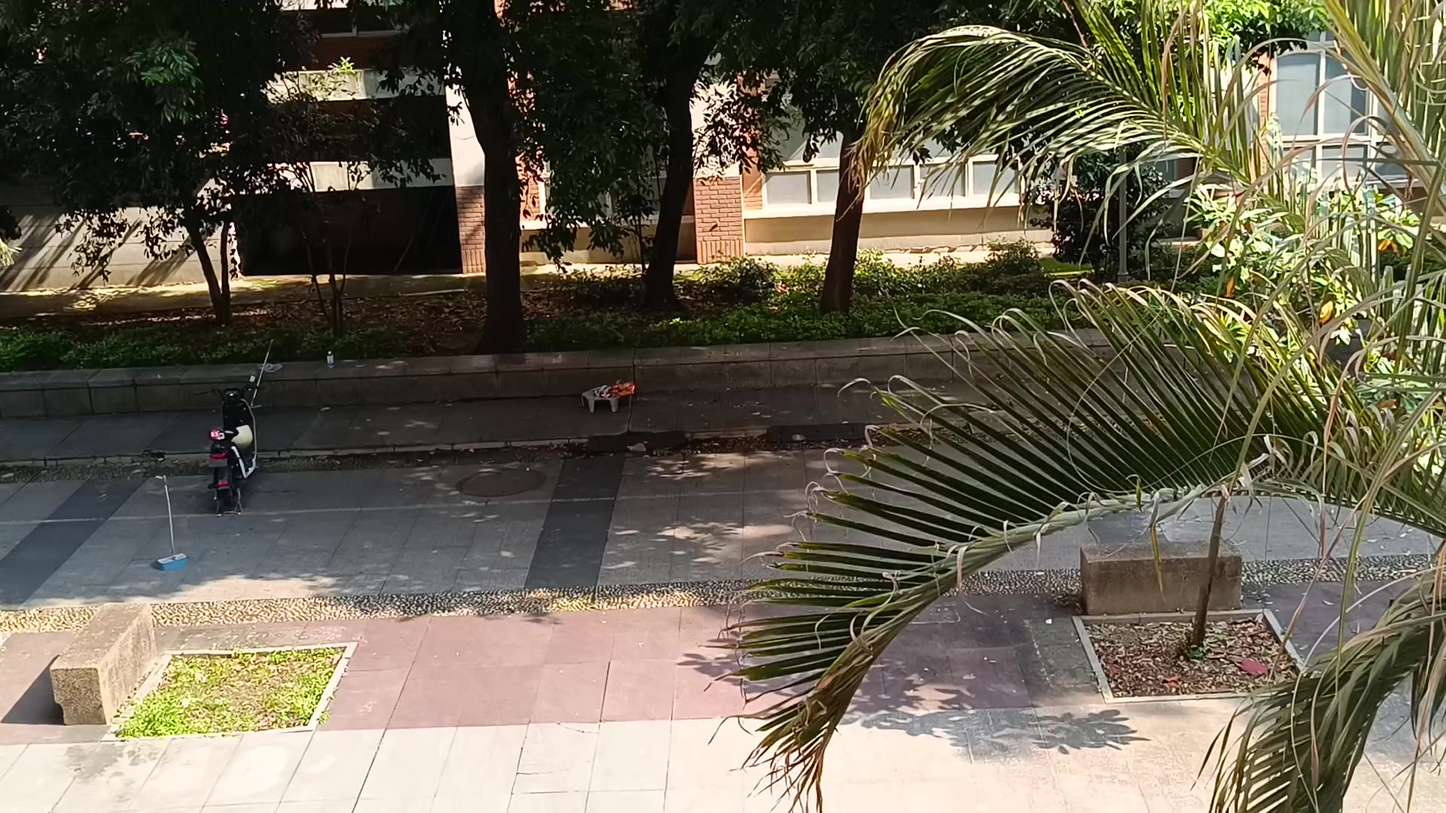fire: (607, 379, 635, 397)
